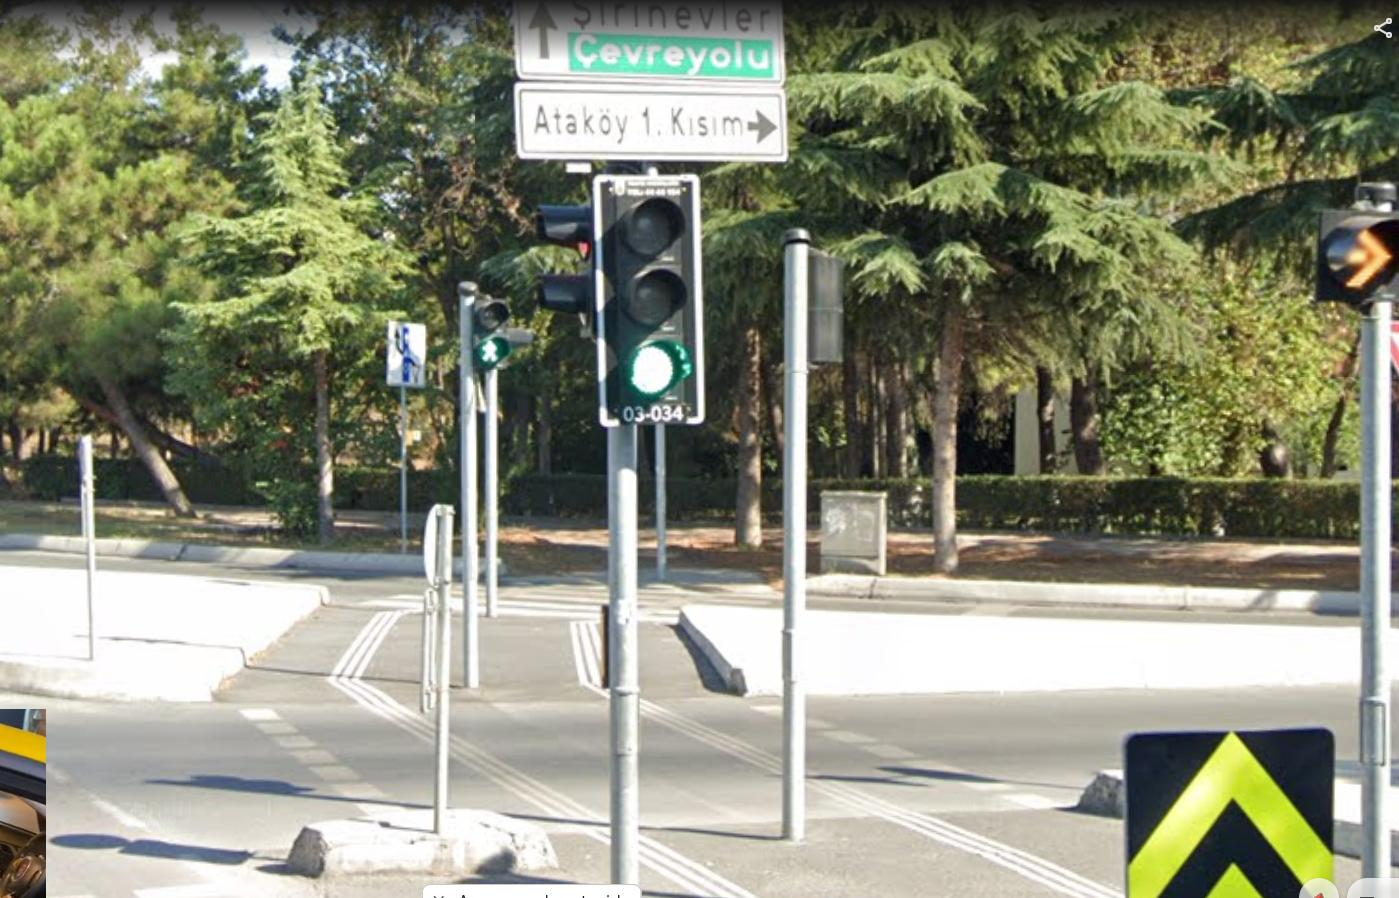greenlight: (593, 171, 701, 420)
